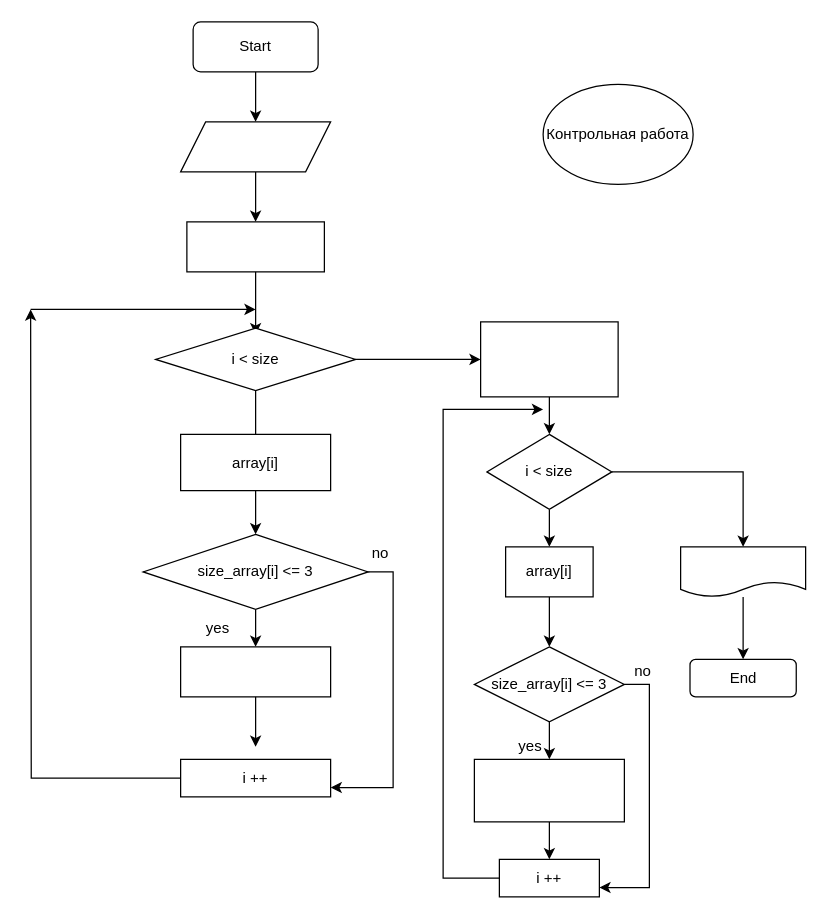
Image size: 828x920. Some labels were removed from this diagram. Each missing label, with the centre of its shape:
array_length ++: [255,671]
i = 0; array_length = 0: [255,246]
new_array[j] = array[i] j++: [548,790]
string_array[size]: [255,146]
string_new_array: [742,571]
string_new_array [new_array_length] i = 0; j = 0;: [548,359]
